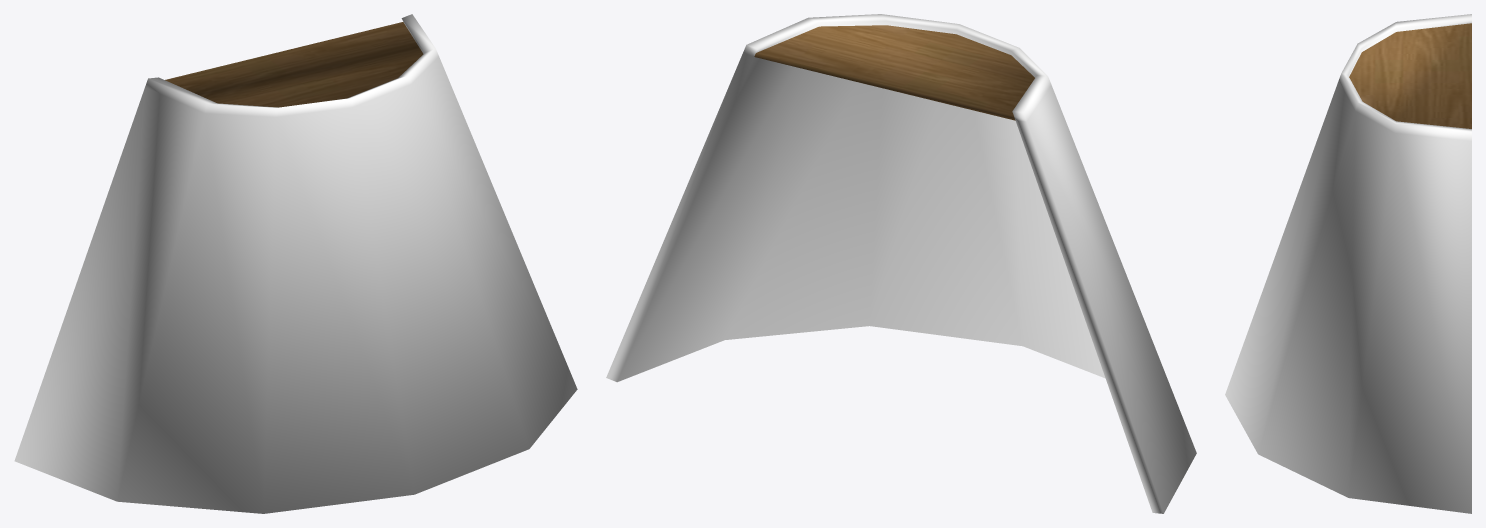
The model's file is SM_Prop_Lamp.fbx.
3 views of the same model, side by side, from view 1: azimuth 30°, elevation 25°; view 2: azimuth 150°, elevation 25°; view 3: azimuth 270°, elevation 25° (orthographic). The views are drawn at different scales.
Visible parts, largest first — view 1: SM_Prop_Lamp; view 2: SM_Prop_Lamp; view 3: SM_Prop_Lamp.
Part boxes in pixels (bbox=[...]): SM_Prop_Lamp: bbox=[14, 14, 577, 513]; SM_Prop_Lamp: bbox=[606, 14, 1196, 513]; SM_Prop_Lamp: bbox=[1225, 14, 1471, 513].
Size of the model in its own units: 0.8998 by 0.5694 by 0.3941.
